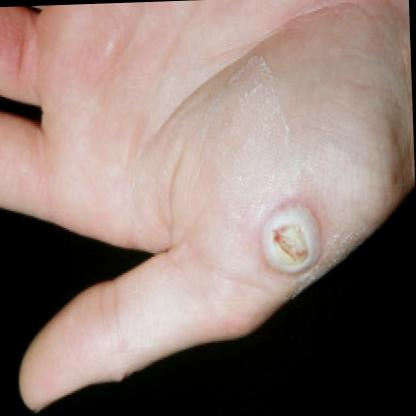Warts: (256, 194, 329, 283)
